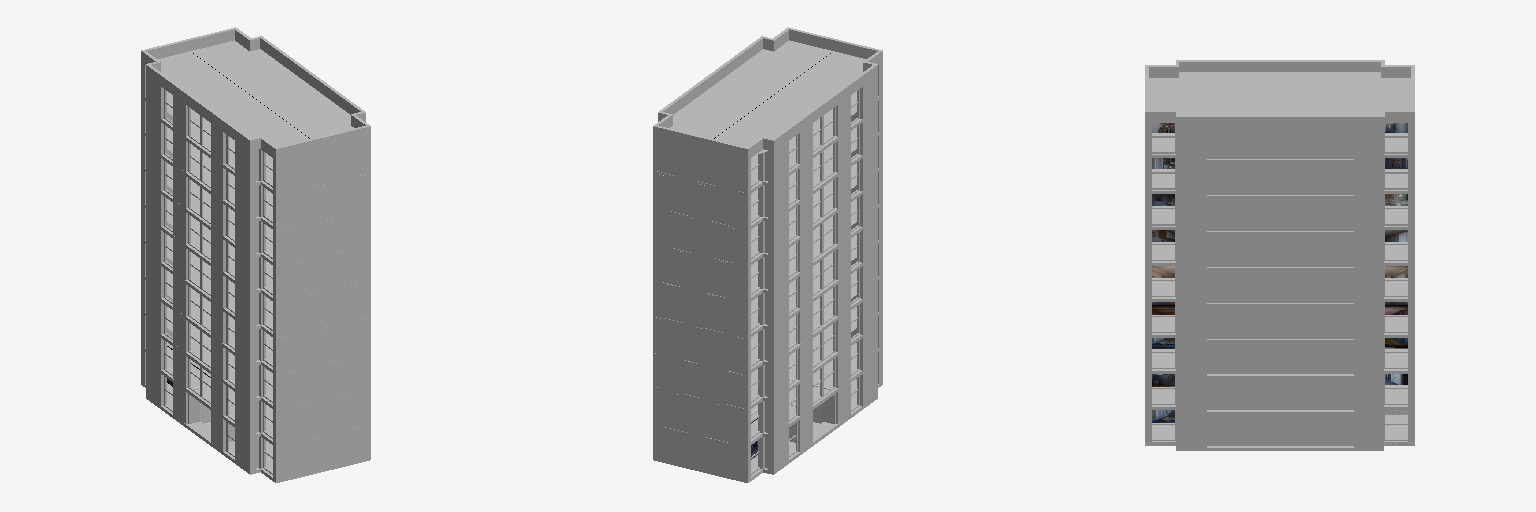
3 views of the same model, side by side, from view 1: azimuth 30°, elevation 25°; view 2: azimuth 150°, elevation 25°; view 3: azimuth 270°, elevation 25° (orthographic).
Visible parts, largest first — view 1: building_001.002_building_001_mesh.003, building_001.004_building_001_mesh.005, building_001.005_building_001_mesh.006, building_001_building_001_mesh.001, Plane.007, Plane.009, Plane.011, Plane.010, Plane.005, Plane.008, Plane.006, Plane.001; view 2: building_001.002_building_001_mesh.003, building_001.004_building_001_mesh.005, building_001.005_building_001_mesh.006, building_001_building_001_mesh.001, Plane.007, Plane.009, Plane.011, Plane.010, Plane.008, Plane.005, Plane.006, Plane.001; view 3: building_001.003_building_001_mesh.004, building_001.005_building_001_mesh.006, building_001_building_001_mesh.001, depasfalsos_depasfl, building_001.002_building_001_mesh.003, Plane.004, Plane.001, Plane.006, Plane.005, Plane.008, Plane.009, Plane.010 (+2 smaller).
Boxes of the visible parts, <box> form: building_001.002_building_001_mesh.003: <box>141,62,370,482</box>; building_001.004_building_001_mesh.005: <box>146,76,260,474</box>; building_001.005_building_001_mesh.006: <box>141,27,369,159</box>; building_001_building_001_mesh.001: <box>141,65,367,482</box>; Plane.007: <box>167,272,272,363</box>; Plane.009: <box>167,199,272,291</box>; Plane.011: <box>167,127,272,220</box>; Plane.010: <box>167,163,272,256</box>; Plane.005: <box>167,342,272,435</box>; Plane.008: <box>167,235,272,327</box>; Plane.006: <box>167,307,272,399</box>; Plane.001: <box>167,91,272,184</box>; building_001.002_building_001_mesh.003: <box>653,62,882,482</box>; building_001.004_building_001_mesh.005: <box>763,76,877,474</box>; building_001.005_building_001_mesh.006: <box>654,27,882,159</box>; building_001_building_001_mesh.001: <box>656,63,882,477</box>; Plane.007: <box>655,272,856,374</box>; Plane.009: <box>663,199,856,297</box>; Plane.011: <box>671,127,856,225</box>; Plane.010: <box>674,163,856,262</box>; Plane.008: <box>665,235,856,332</box>; Plane.005: <box>670,343,856,442</box>; Plane.006: <box>657,307,856,408</box>; Plane.001: <box>657,91,856,192</box>; building_001.003_building_001_mesh.004: <box>1176,117,1384,450</box>; building_001.005_building_001_mesh.006: <box>1145,60,1414,122</box>; building_001_building_001_mesh.001: <box>1145,62,1414,441</box>; depasfalsos_depasfl: <box>1152,123,1407,384</box>; building_001.002_building_001_mesh.003: <box>1145,123,1414,441</box>; Plane.004: <box>1152,415,1407,438</box>; Plane.001: <box>1152,133,1407,151</box>; Plane.006: <box>1152,349,1407,366</box>; Plane.005: <box>1152,385,1407,402</box>; Plane.008: <box>1152,278,1407,294</box>; Plane.009: <box>1152,242,1407,258</box>; Plane.010: <box>1152,206,1407,222</box>.
Bounding box in the file's own units: 11.07 × 30.52 × 22.27.
Materials: 27 (4 with a texture image).